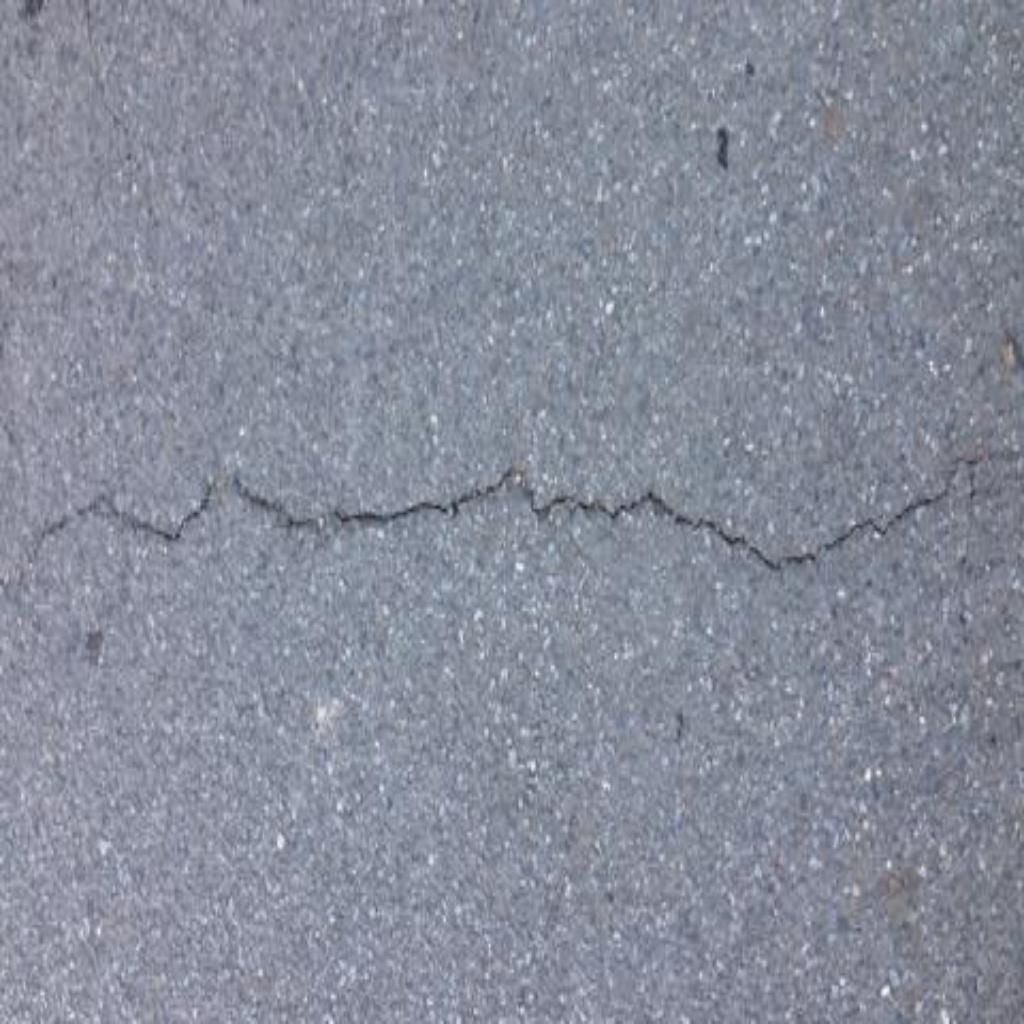Crack: (30, 449, 1024, 575)
